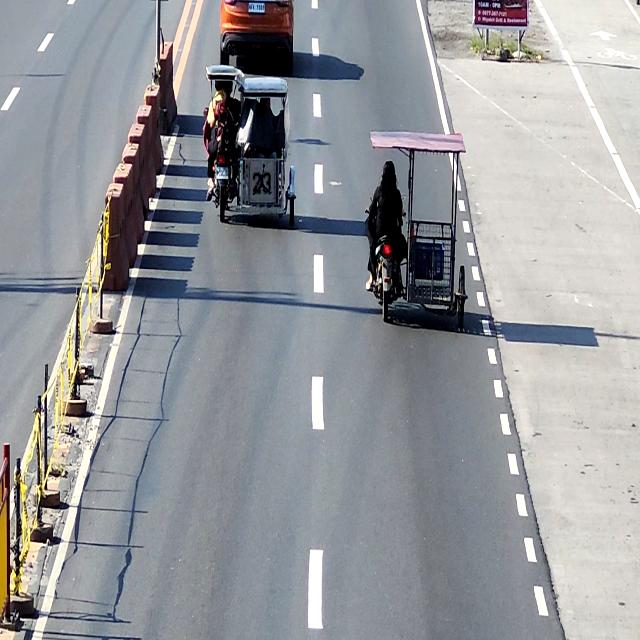Car: (220, 0, 294, 71)
License-Plate: (248, 2, 265, 12), (216, 168, 228, 180)
Tricycle: (366, 130, 469, 328), (205, 65, 296, 225)
